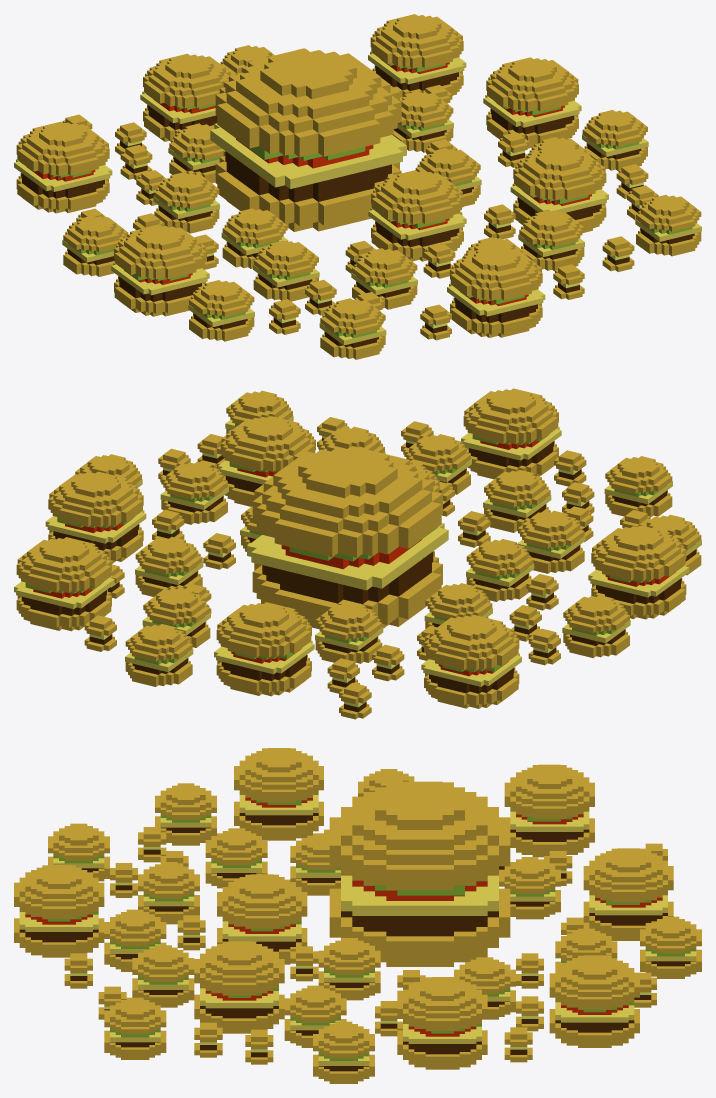
File: burgers_inner.obj
The picture shows the model from 3 angles, top to bottom: view 1: azimuth 30°, elevation 25°; view 2: azimuth 150°, elevation 25°; view 3: azimuth 270°, elevation 25°; orthographic projection. The views are drawn at different scales.
Parts seen in each view (by area): view 1: burgers_inner; view 2: burgers_inner; view 3: burgers_inner.
Boxes of the visible parts, x1,y1,x2,y2 form: burgers_inner: (14, 14, 701, 359); burgers_inner: (14, 388, 701, 719); burgers_inner: (14, 748, 701, 1083).
Size of the model in its own units: 117 by 26 by 122.
1 material, 1 textured.
